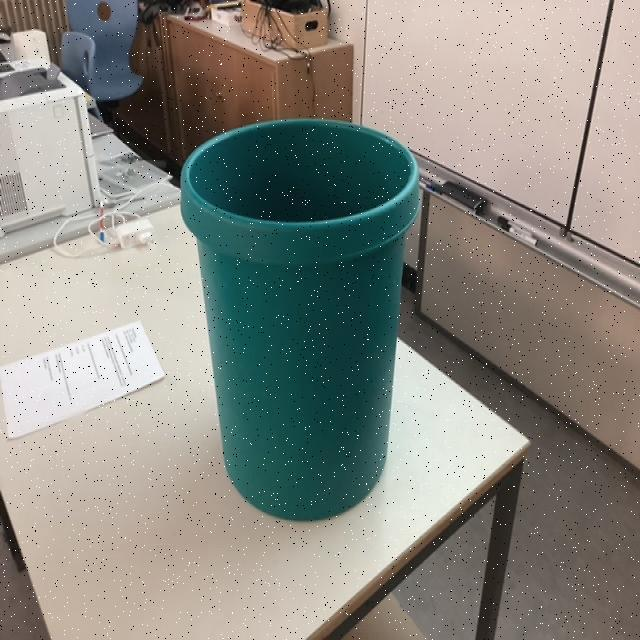garbage container: (170, 109, 446, 526)
